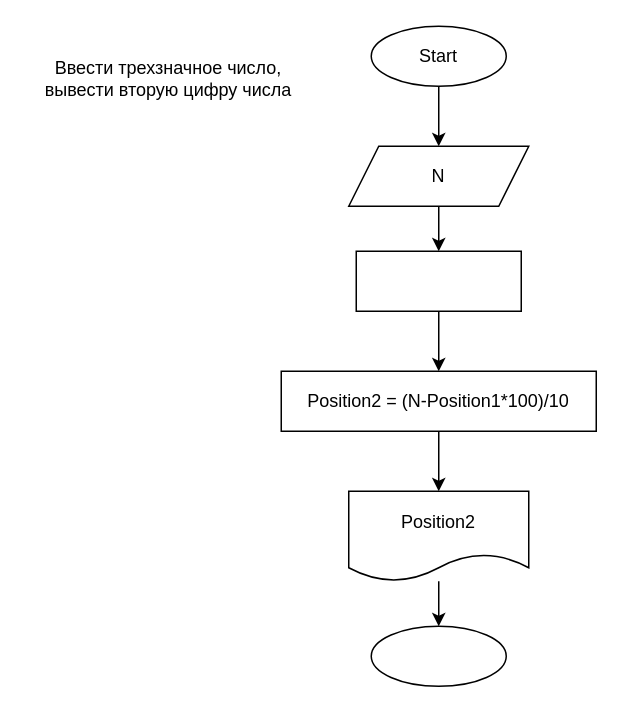
This 623x713 diagram has some shape labels left out. Each missing label, with the centre of its shape:
"End" belongs at point (438, 655).
"Position1 = N/100" belongs at point (438, 280).
